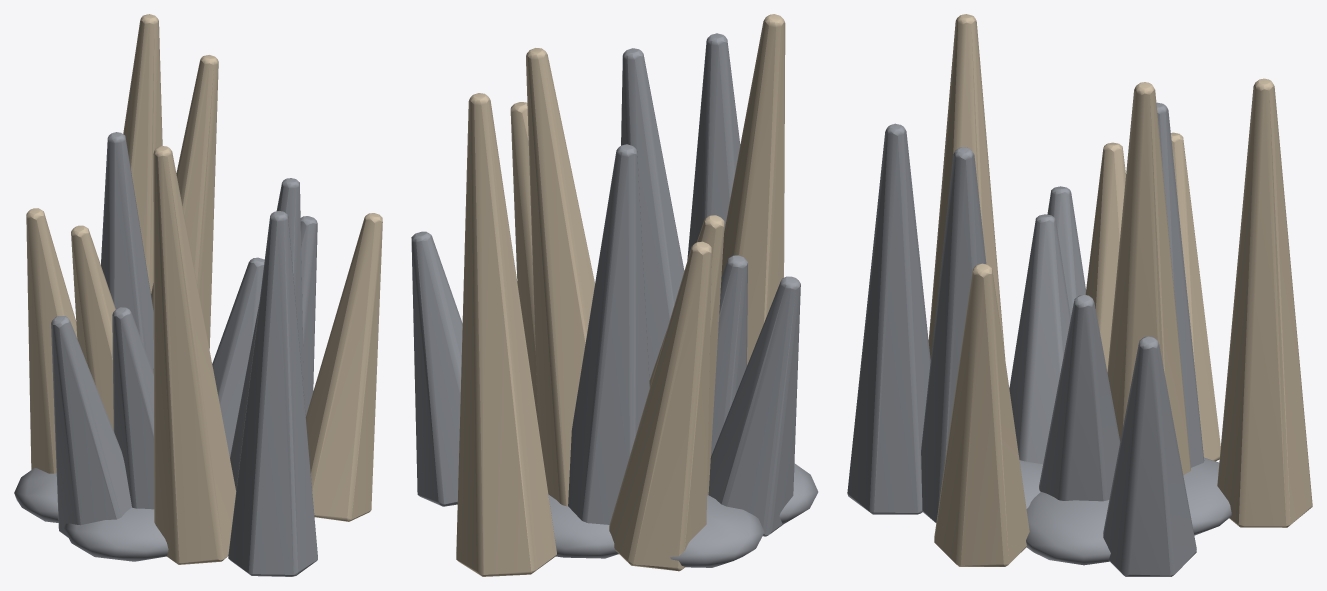
The model's file is bio_crystal_fan_21_far.glb.
3 views of the same model, side by side, from view 1: azimuth 30°, elevation 25°; view 2: azimuth 150°, elevation 25°; view 3: azimuth 270°, elevation 25° (orthographic). The views are drawn at different scales.
Visible parts, largest first — view 1: Reflecting mineral prism.007, Reflecting mineral prism.002, Reflecting mineral prism.005, Reflecting mineral prism.004, Reflecting mineral prism.001, Reflecting mineral prism.003, Reflecting mineral prism.006, Reflecting mineral prism.012, Reflecting mineral prism.011, Mineral substrate, Reflecting mineral prism.009, Reflecting mineral prism (+2 smaller); view 2: Reflecting mineral prism.011, Reflecting mineral prism.001, Reflecting mineral prism.006, Reflecting mineral prism.003, Reflecting mineral prism.004, Reflecting mineral prism.007, Reflecting mineral prism.008, Reflecting mineral prism.010, Mineral substrate, Reflecting mineral prism.002, Reflecting mineral prism.012, Reflecting mineral prism.005 (+1 smaller); view 3: Reflecting mineral prism.011, Reflecting mineral prism.002, Reflecting mineral prism.005, Reflecting mineral prism.003, Reflecting mineral prism.008, Reflecting mineral prism, Reflecting mineral prism.010, Reflecting mineral prism.012, Mineral substrate, Reflecting mineral prism.007, Reflecting mineral prism.001, Reflecting mineral prism.009 (+2 smaller).
Boxes of the visible parts, x1=… form: Reflecting mineral prism.007: x1=153, y1=146, x2=236, y2=564; Reflecting mineral prism.002: x1=228, y1=211, x2=317, y2=576; Reflecting mineral prism.005: x1=305, y1=213, x2=382, y2=521; Reflecting mineral prism.004: x1=51, y1=316, x2=131, y2=537; Reflecting mineral prism.001: x1=26, y1=208, x2=77, y2=473; Reflecting mineral prism.003: x1=151, y1=55, x2=218, y2=373; Reflecting mineral prism.006: x1=101, y1=132, x2=153, y2=372; Reflecting mineral prism.012: x1=112, y1=307, x2=154, y2=509; Reflecting mineral prism.011: x1=123, y1=14, x2=162, y2=293; Mineral substrate: x1=14, y1=468, x2=168, y2=561; Reflecting mineral prism.009: x1=71, y1=225, x2=115, y2=430; Reflecting mineral prism: x1=212, y1=257, x2=264, y2=457; Reflecting mineral prism.011: x1=456, y1=93, x2=556, y2=576; Reflecting mineral prism.001: x1=609, y1=241, x2=711, y2=571; Reflecting mineral prism.006: x1=568, y1=144, x2=649, y2=524; Reflecting mineral prism.003: x1=526, y1=48, x2=594, y2=506; Reflecting mineral prism.004: x1=708, y1=276, x2=800, y2=536; Reflecting mineral prism.007: x1=721, y1=14, x2=785, y2=365; Reflecting mineral prism.008: x1=411, y1=231, x2=462, y2=506; Reflecting mineral prism.010: x1=621, y1=48, x2=684, y2=379; Mineral substrate: x1=548, y1=463, x2=818, y2=567; Reflecting mineral prism.002: x1=687, y1=33, x2=740, y2=260; Reflecting mineral prism.012: x1=711, y1=255, x2=747, y2=455; Reflecting mineral prism.005: x1=510, y1=102, x2=537, y2=421; Reflecting mineral prism.011: x1=1217, y1=78, x2=1312, y2=527; Reflecting mineral prism.002: x1=847, y1=123, x2=930, y2=514; Reflecting mineral prism.005: x1=934, y1=263, x2=1029, y2=566; Reflecting mineral prism.003: x1=1107, y1=82, x2=1190, y2=475; Reflecting mineral prism.008: x1=1103, y1=336, x2=1196, y2=576; Reflecting mineral prism: x1=1039, y1=295, x2=1120, y2=501; Reflecting mineral prism.010: x1=921, y1=147, x2=986, y2=522; Reflecting mineral prism.012: x1=1009, y1=214, x2=1070, y2=464; Mineral substrate: x1=1019, y1=457, x2=1231, y2=565; Reflecting mineral prism.007: x1=928, y1=14, x2=1005, y2=359; Reflecting mineral prism.001: x1=1171, y1=132, x2=1220, y2=461; Reflecting mineral prism.009: x1=1085, y1=142, x2=1125, y2=371.
Bounding box in the file's own units: 1.49 × 1.97 × 1.82.
